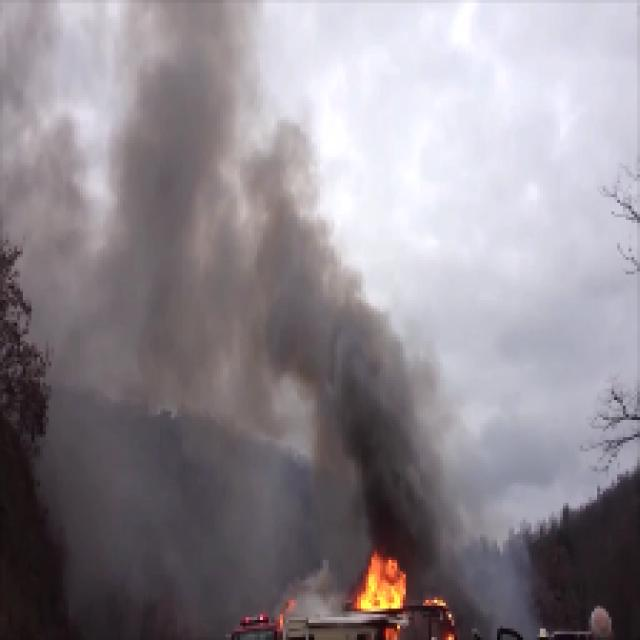fire: (354, 545, 461, 640)
smoke: (72, 104, 478, 539)
